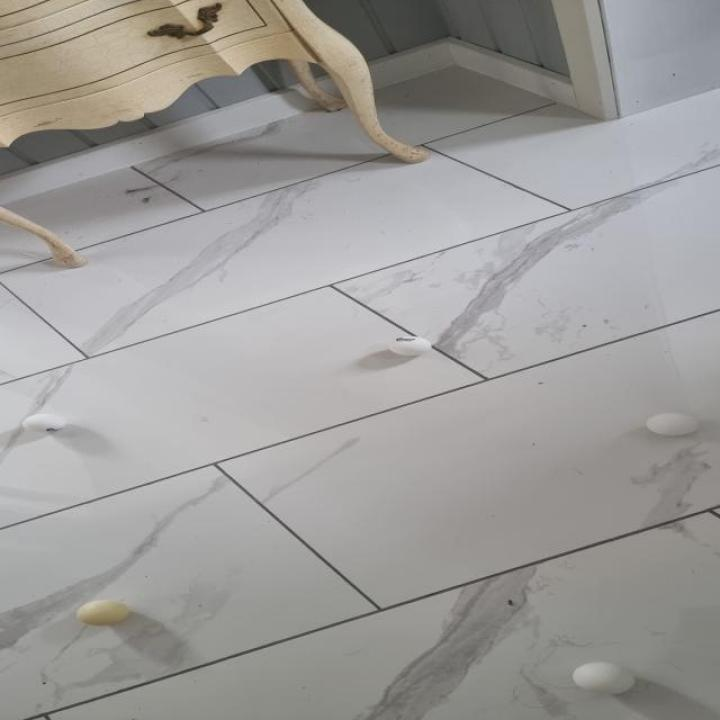white: (572, 663, 638, 695), (75, 600, 130, 626), (647, 413, 700, 435), (21, 413, 68, 433), (390, 336, 431, 356)
